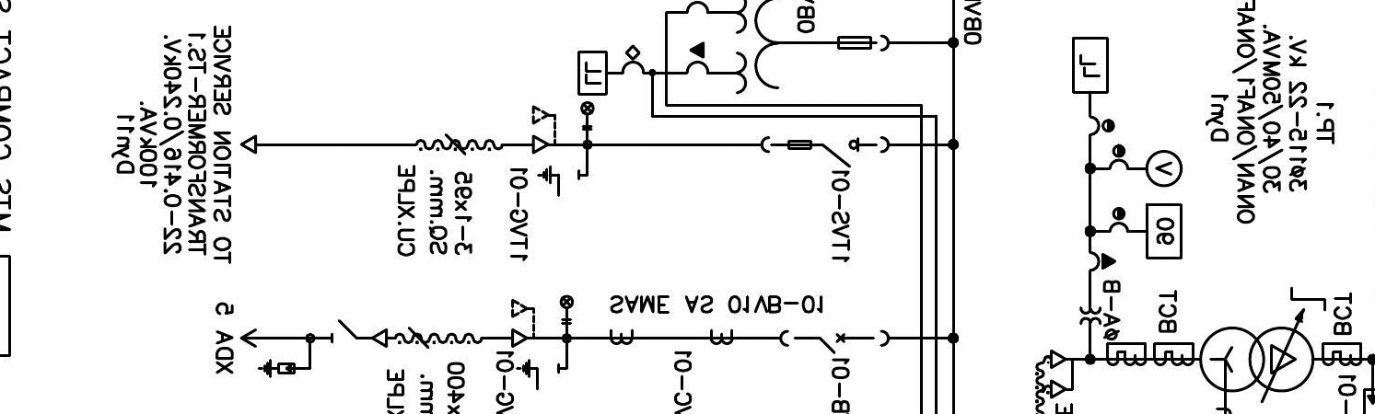11522_tx_dyn1: (1198, 326, 1315, 393)
22_breaker: (779, 329, 891, 355)
22_ds: (760, 135, 890, 169)
22_ds_la_out: (239, 319, 357, 379)
22_gs: (515, 358, 561, 392), (536, 164, 580, 198)
22_ll: (559, 294, 574, 325), (580, 100, 595, 131)
LL: (1071, 36, 1109, 95), (577, 50, 608, 96)
terminator_double: (1050, 349, 1074, 399)
terminator_single: (239, 134, 258, 155), (371, 327, 389, 348)
terminator_w_future: (531, 103, 557, 155), (511, 297, 536, 349)
v_m: (1145, 149, 1184, 188)
